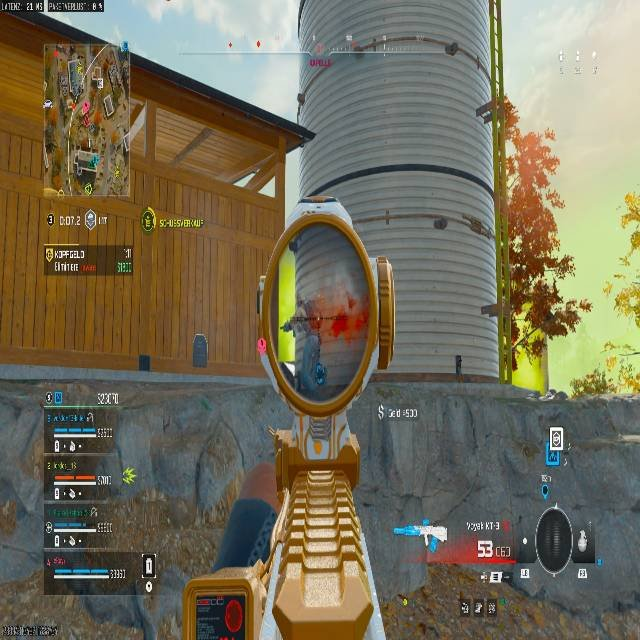player: (290, 298, 327, 383)
